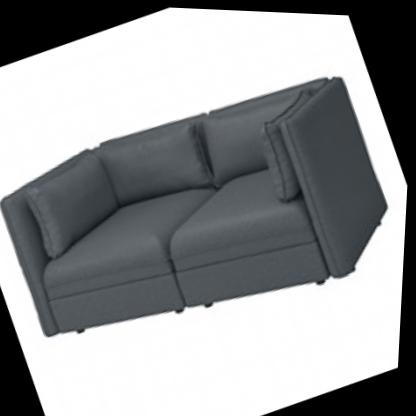Sofa: (0, 13, 415, 399)
